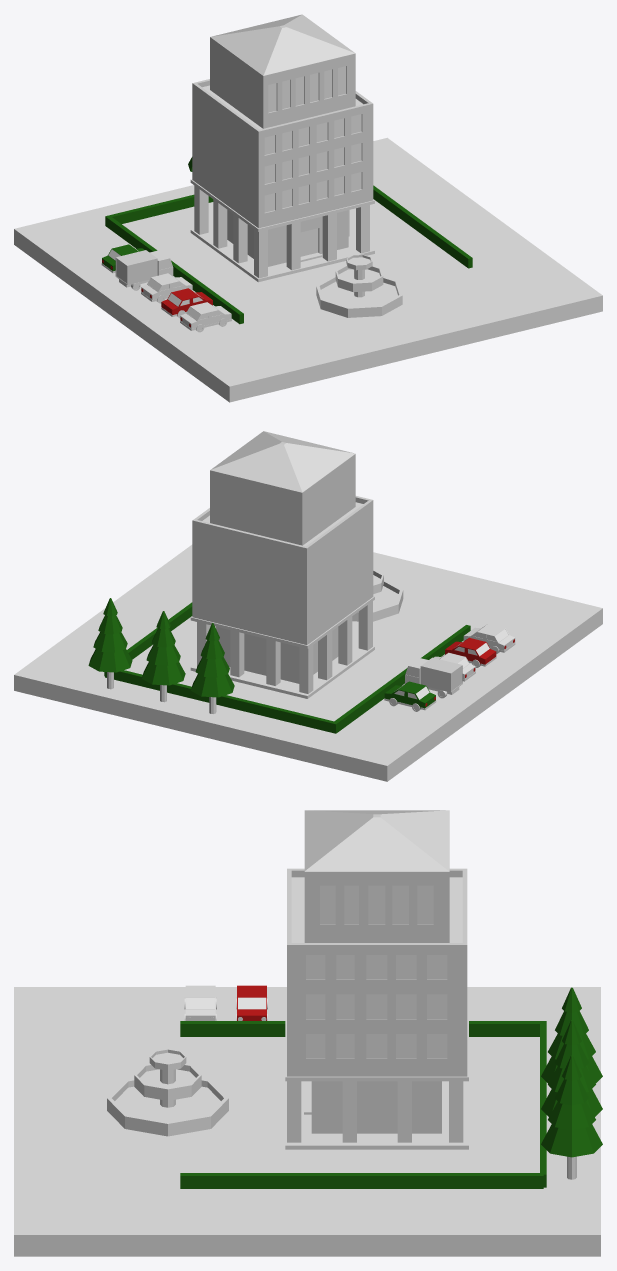
The model's file is Office Building 01.fbx.
The picture shows the model from 3 angles, top to bottom: view 1: azimuth 30°, elevation 25°; view 2: azimuth 150°, elevation 25°; view 3: azimuth 270°, elevation 25°; orthographic projection. The views are drawn at different scales.
Visible parts, largest first — view 1: Cube, Cube.022, Cube.013, Cylinder.007, Cube.020, Cube.014, Cube.019, Cube.018; view 2: Cube, Cube.022, Cube.013, Cylinder.017, Cylinder.008, Cylinder.016, Cube.020, Cylinder.007, Cube.016, Cube.018, Cube.014; view 3: Cube, Cube.022, Cube.013, Cylinder.007, Cylinder.008, Cylinder.016, Cylinder.017, Cube.014, Cube.018.
Part boxes in pixels (x1,y1,x2,y2): Cube: (14,137,602,402); Cube.022: (190,14,374,282); Cube.013: (105,185,472,324); Cylinder.007: (316,254,402,317); Cube.020: (115,250,173,290); Cube.014: (180,302,231,332); Cube.019: (141,273,192,303); Cube.018: (161,288,212,318); Cube: (14,544,602,781); Cube.022: (190,431,374,698); Cube.013: (104,602,470,733); Cylinder.017: (191,623,234,713); Cylinder.008: (88,598,132,689); Cylinder.016: (141,611,185,702); Cube.020: (405,657,462,698); Cylinder.007: (352,569,403,621); Cube.016: (384,681,436,711); Cube.018: (445,637,496,667); Cube.014: (463,624,515,653); Cube: (14,987,600,1256); Cube.022: (285,810,468,1149); Cube.013: (180,1021,546,1188); Cylinder.007: (107,1049,228,1136); Cylinder.008: (541,1055,602,1179); Cylinder.016: (541,1020,602,1116); Cylinder.017: (541,987,602,1083); Cube.014: (184,985,216,1020); Cube.018: (236,985,267,1020).
Size of the model in its own units: 1818 by 1083 by 1824.
